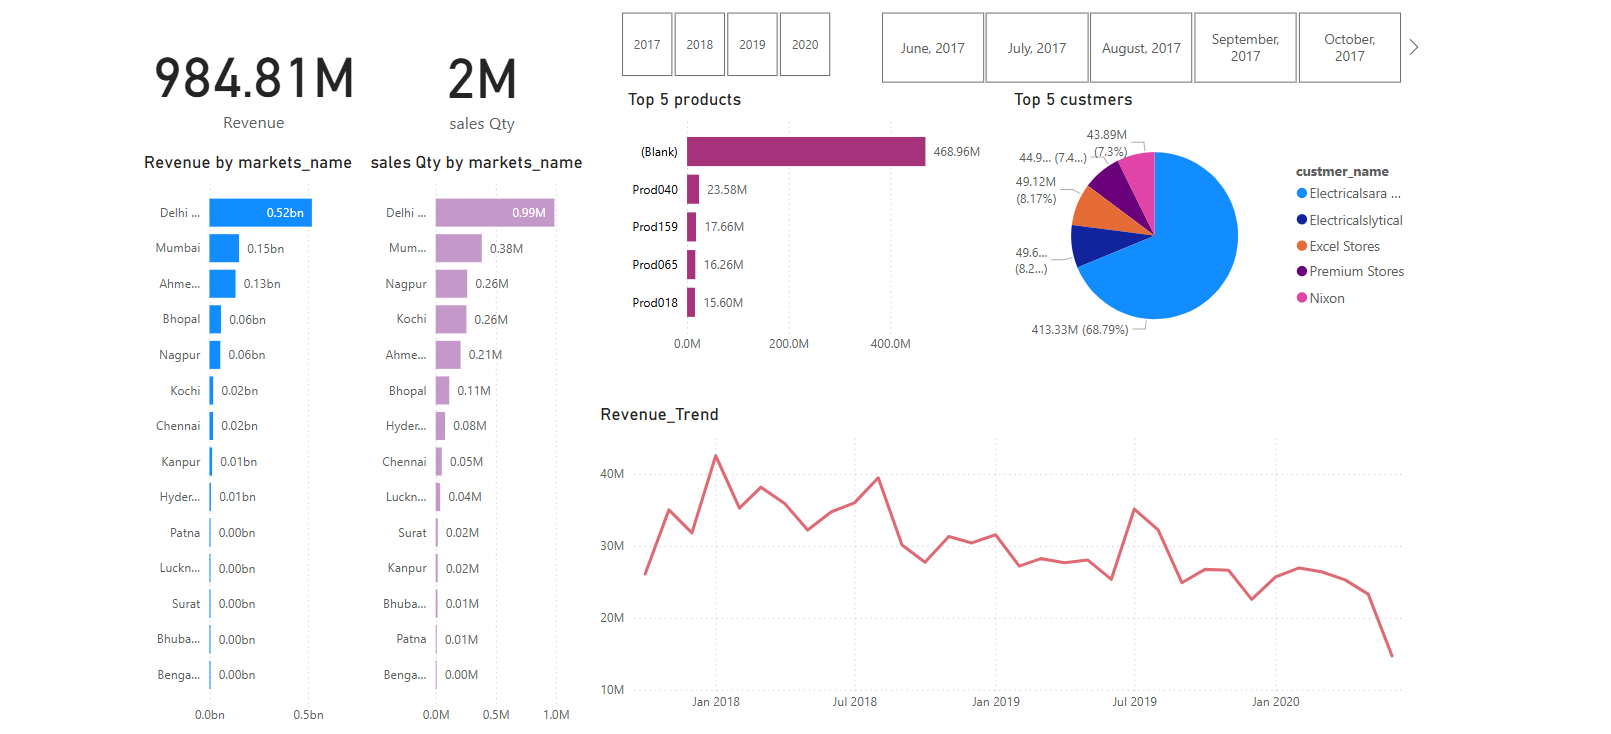

What the dashboard file says about the page in this screenshot:
{"tool":"powerbi","page":{"name":"Page 1","canvas":[1280,720],"ordinal":0},"visuals":[{"type":"card","fields":{"Values":["BaseMeasures.Revenue"]},"box":[26.7,18.6,226.7,134.9],"z":0},{"type":"card","fields":{"Values":["BaseMeasures.sales Qty"]},"box":[253.5,18.6,218.6,136],"z":1000},{"type":"barChart","fields":{"Y":["BaseMeasures.Revenue"],"Category":["sales markets.markets_name"]},"box":[27.9,153.5,225.6,566.3],"z":2000},{"type":"barChart","fields":{"Y":["BaseMeasures.sales Qty"],"Category":["sales markets.markets_name"]},"box":[247.5,153.8,225,566.2],"z":3000},{"type":"slicer","fields":{"Values":["sales date.year"]},"box":[472,11,253.1,75.8],"z":4000},{"type":"slicer","fields":{"Values":["sales date.cy_date"]},"box":[725.1,11,555.2,81.9],"z":5000},{"type":"barChart","title":"Top 5 products","fields":{"Y":["BaseMeasures.Revenue"],"Category":["sales products.product_code"]},"box":[498.9,92.9,375.4,266.6],"z":6000},{"type":"pieChart","title":"Top 5 custmers","fields":{"Category":["sales customers.custmer_name"],"Y":["BaseMeasures.Revenue"]},"box":[874.3,92.9,402.3,266.6],"z":7000},{"type":"lineChart","title":"Revenue_Trend","fields":{"Y":["BaseMeasures.Revenue"],"Category":["sales date.cy_date"]},"box":[472,398.6,804.6,308.2],"z":8000}]}

Visuals, with their boxes on the page's 1280x720 design canvas (x1, y1, x2, y2). These are canvas units, not pixel positions in the 1611x734 screenshot, which may show the page scaled, cropped or inside an application window:
card - BaseMeasures.Revenue: (27, 19, 253, 154)
card - BaseMeasures.sales Qty: (254, 19, 472, 155)
barChart - BaseMeasures.Revenue x sales markets.markets_name: (28, 154, 254, 720)
barChart - BaseMeasures.sales Qty x sales markets.markets_name: (248, 154, 472, 720)
slicer - sales date.year: (472, 11, 725, 87)
slicer - sales date.cy_date: (725, 11, 1280, 93)
"Top 5 products" barChart: (499, 93, 874, 360)
"Top 5 custmers" pieChart: (874, 93, 1277, 360)
"Revenue_Trend" lineChart: (472, 399, 1277, 707)
